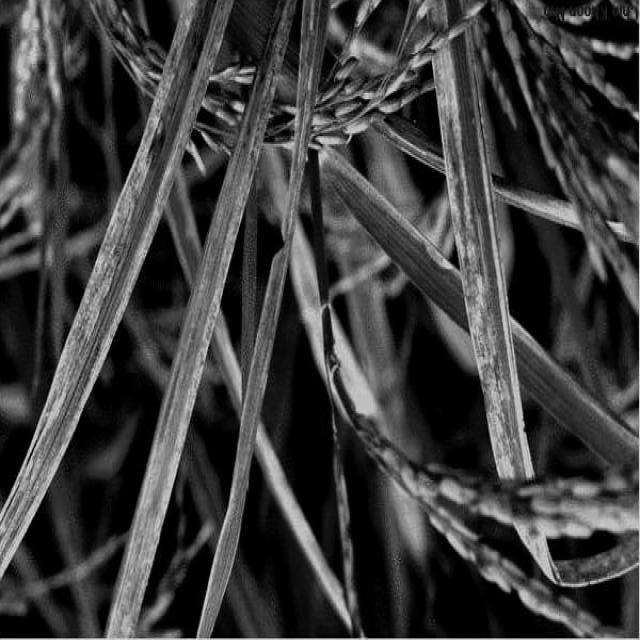Bacterial_Leaf_Blight: (44, 54, 290, 584), (429, 32, 564, 576)
